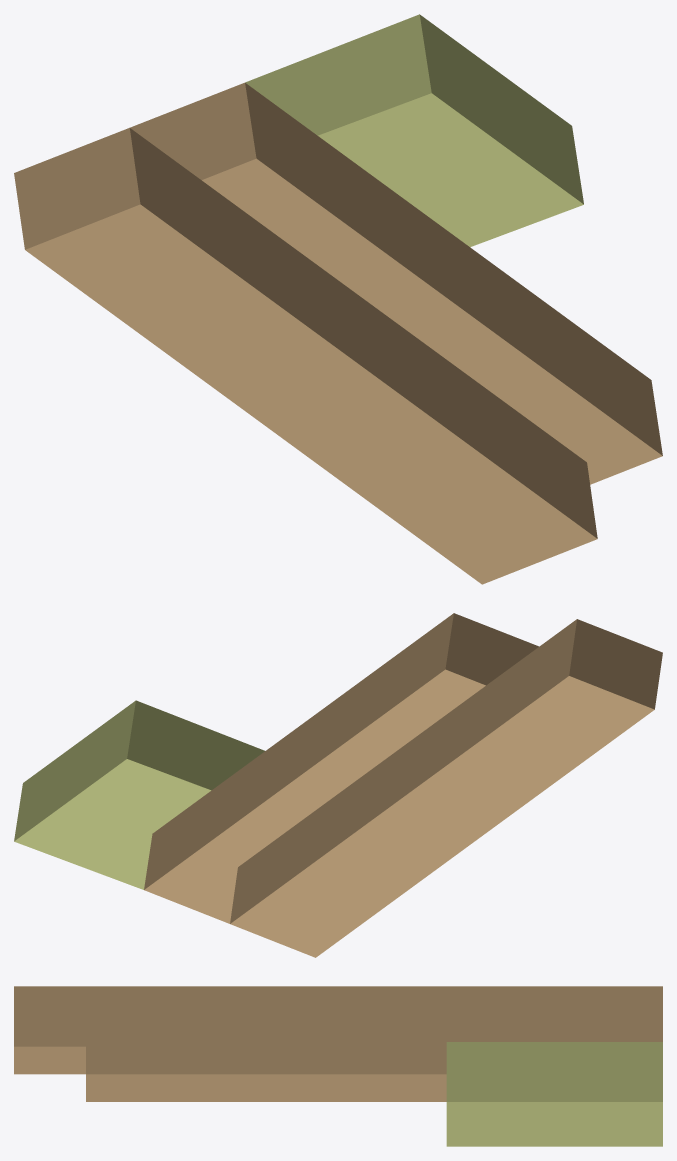
3 renders of one model, top to bottom at view 1: azimuth 30°, elevation 25°; view 2: azimuth 150°, elevation 25°; view 3: azimuth 270°, elevation 25°, orthographic. The views are drawn at different scales.
Parts seen in each view (by area): view 1: 0_1_3_2_1_1_1_3_0_2_2; view 2: 0_1_3_2_1_1_1_3_0_2_2; view 3: 0_1_3_2_1_1_1_3_0_2_2.
Part boxes in pixels (<box>): 0_1_3_2_1_1_1_3_0_2_2: <box>14,14,662,584</box>; 0_1_3_2_1_1_1_3_0_2_2: <box>14,613,662,957</box>; 0_1_3_2_1_1_1_3_0_2_2: <box>14,986,662,1146</box>.
Size of the model in its own units: 14.24 by 4.54 by 27.
